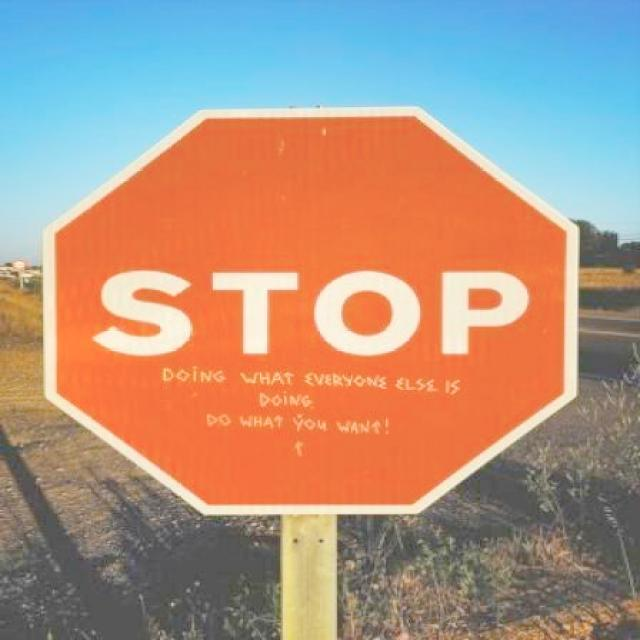stop_sign: (42, 110, 575, 512)
